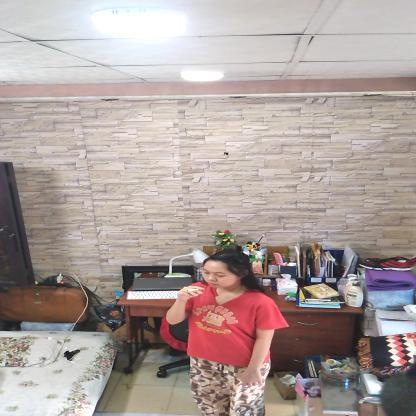cigarette: (186, 288, 200, 292)
person: (164, 250, 284, 415)
